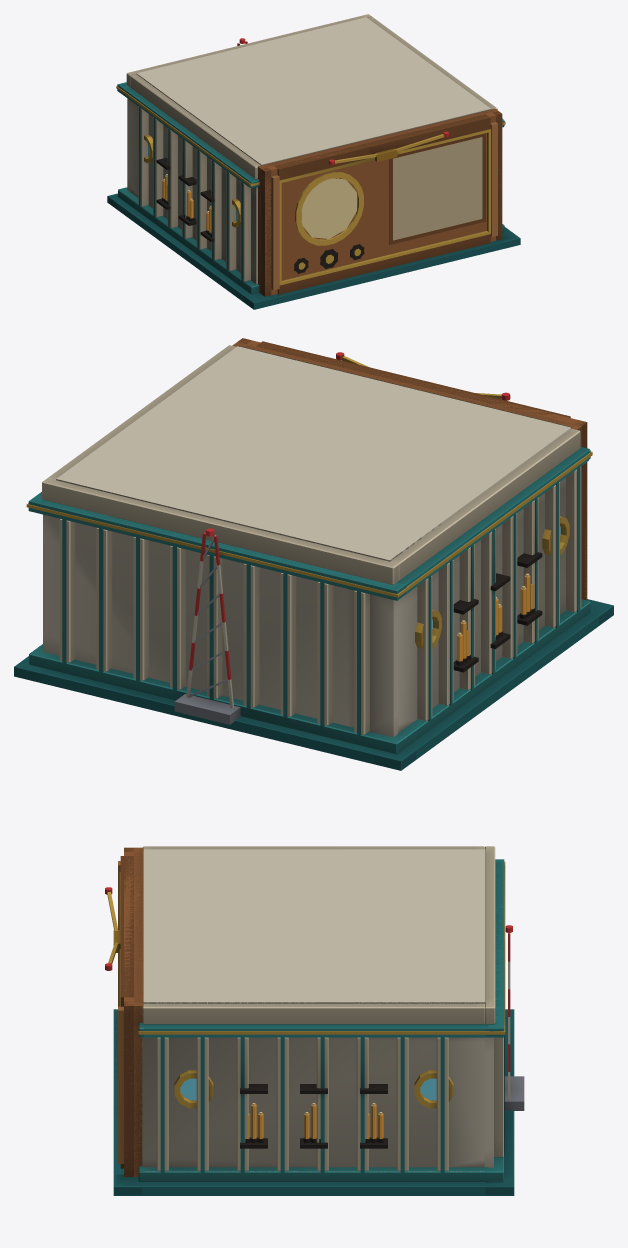
File: MonsterRadioFloor.fbx
3 views of the same model, one above another, from view 1: azimuth 30°, elevation 25°; view 2: azimuth 150°, elevation 25°; view 3: azimuth 270°, elevation 25° (orthographic). The views are drawn at different scales.
Parts seen in each view (by area): view 1: MR_S_All, MR_F_Rings, MR_F_Smooth, MR_F_Props, MR_F_Glass; view 2: MR_F_Rings, MR_S_All, MR_F_Smooth, MR_F_Props, MR_F_Glass; view 3: MR_S_All, MR_F_Rings, MR_F_Smooth, MR_F_Props, MR_F_Glass.
Part boxes in pixels (bbox=[...]): MR_S_All: bbox=[107, 17, 520, 309]; MR_F_Rings: bbox=[108, 74, 518, 302]; MR_F_Smooth: bbox=[108, 14, 519, 308]; MR_F_Props: bbox=[138, 134, 397, 273]; MR_F_Glass: bbox=[148, 38, 245, 232]; MR_F_Rings: bbox=[16, 338, 611, 760]; MR_S_All: bbox=[14, 338, 613, 770]; MR_F_Smooth: bbox=[15, 342, 613, 769]; MR_F_Props: bbox=[174, 516, 569, 724]; MR_F_Glass: bbox=[206, 526, 560, 661]; MR_S_All: bbox=[113, 847, 514, 1195]; MR_F_Rings: bbox=[115, 847, 513, 1186]; MR_F_Smooth: bbox=[105, 846, 512, 1194]; MR_F_Props: bbox=[113, 930, 524, 1110]; MR_F_Glass: bbox=[180, 925, 512, 1138].
Bounding box in the file's own units: 60 × 20 × 60.
